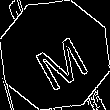M_NW: (22, 22, 88, 88)
